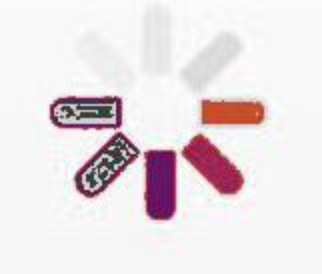ProgressBar: (1, 1, 321, 273)
